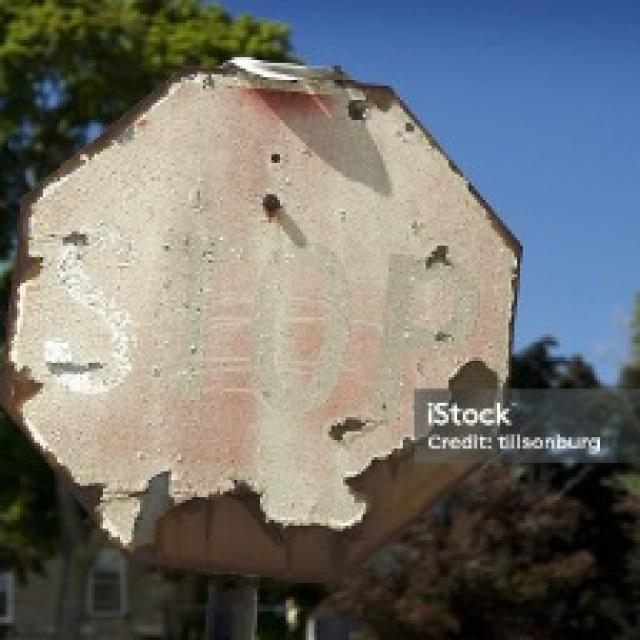stop: (2, 55, 524, 576)
